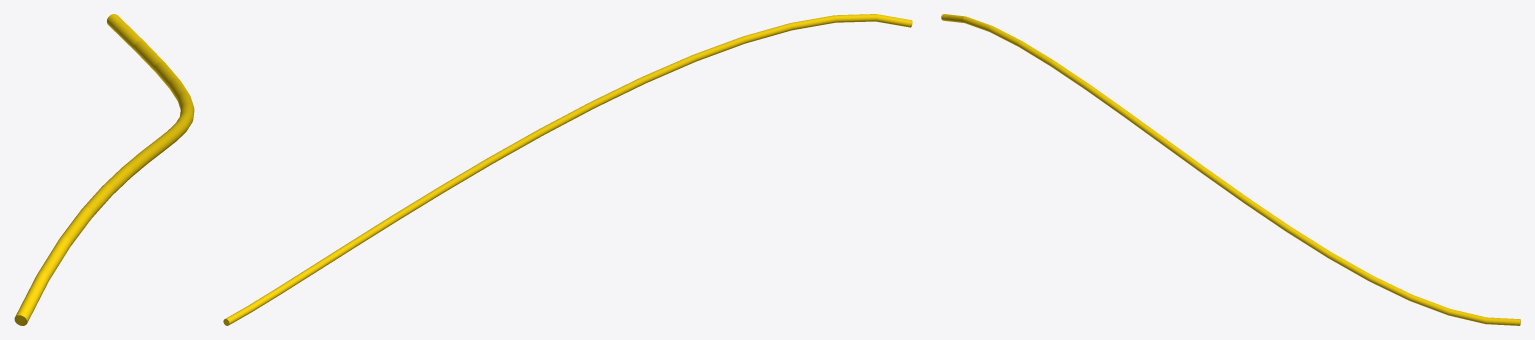
File: Event_420094457_track_82.fbx
3 views of the same model, side by side, from view 1: azimuth 90°, elevation 25°; view 2: azimuth 210°, elevation 25°; view 3: azimuth 330°, elevation 25° (orthographic). The views are drawn at different scales.
Parts seen in each view (by area): view 1: Model; view 2: Model; view 3: Model.
Boxes of the visible parts, x1=… form: Model: x1=14, y1=14, x2=194, y2=325; Model: x1=223, y1=14, x2=912, y2=325; Model: x1=941, y1=14, x2=1520, y2=325.
Size of the model in its own units: 4.05 by 1.02 by 0.5264.
